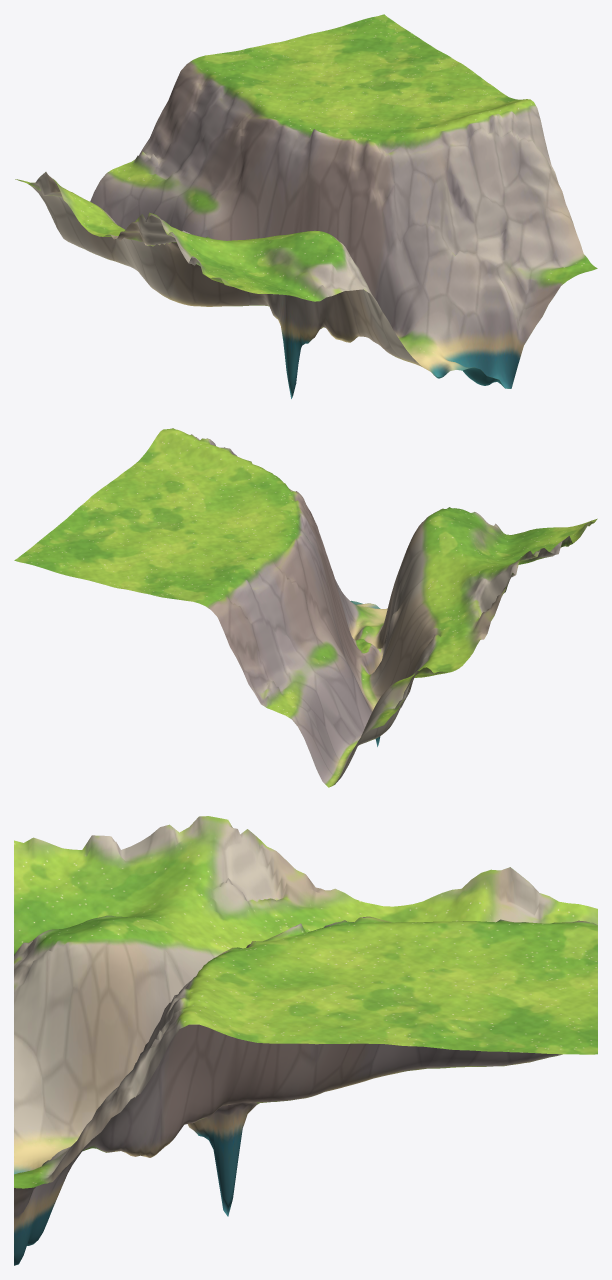
3 renders of one model, top to bottom at view 1: azimuth 30°, elevation 25°; view 2: azimuth 150°, elevation 25°; view 3: azimuth 270°, elevation 25°, orthographic. The views are drawn at different scales.
Visible parts, largest first — view 1: t064_128; view 2: t064_128; view 3: t064_128.
Boxes of the visible parts, x1,y1,x2,y2 form: t064_128: [15, 14, 597, 398]; t064_128: [14, 428, 597, 787]; t064_128: [14, 816, 597, 1265].
Bounding box in the file's own units: 64 × 41.97 × 64.
Materials: 1 (1 with a texture image).
